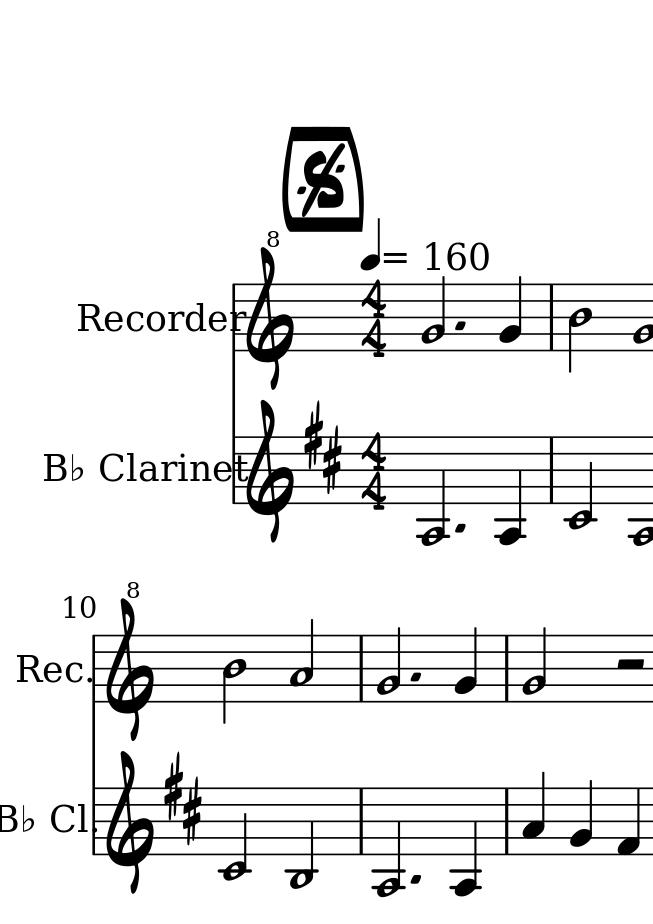0: (467, 239, 488, 274), (78, 592, 97, 622)
1: (423, 237, 441, 276), (62, 594, 75, 621)
2_-2: (216, 785, 254, 884), (562, 433, 597, 531)
2_-3: (284, 784, 320, 889)
2_-4: (370, 784, 405, 899), (418, 433, 451, 548)
2_2: (374, 623, 403, 705), (520, 624, 549, 703), (421, 275, 447, 354)
2_3: (288, 617, 316, 705)
2_4: (219, 633, 248, 727), (564, 281, 593, 375)
4: (360, 471, 388, 512), (361, 318, 388, 359), (361, 432, 388, 472), (361, 279, 387, 319)
4_-4: (493, 433, 528, 547), (447, 786, 482, 897)
4_1: (614, 784, 641, 860)
4_2: (452, 625, 479, 705), (498, 273, 524, 353), (568, 778, 594, 858)
4_3: (521, 769, 547, 857)
6: (444, 238, 467, 274)
Cl: (48, 799, 86, 837), (97, 449, 137, 483)
D_S: (301, 400, 342, 495), (163, 748, 201, 845)
Gclef: (110, 750, 157, 896), (253, 401, 297, 546)
High_Gclef: (244, 231, 297, 392), (107, 579, 152, 741)
Rec: (73, 300, 146, 335), (14, 652, 87, 686)
Rests2: (610, 654, 651, 676)
Segno: (296, 144, 353, 215)
Single_barline: (543, 437, 559, 506), (544, 283, 560, 350), (499, 634, 515, 701), (353, 635, 369, 702), (228, 279, 242, 353), (228, 436, 243, 504), (499, 788, 514, 856), (87, 634, 101, 705), (354, 788, 368, 856), (89, 787, 100, 857)
Speed4: (361, 219, 411, 269)
TimeSig: (359, 278, 391, 357), (360, 429, 390, 512)
dot: (453, 319, 467, 334), (408, 671, 423, 684)
